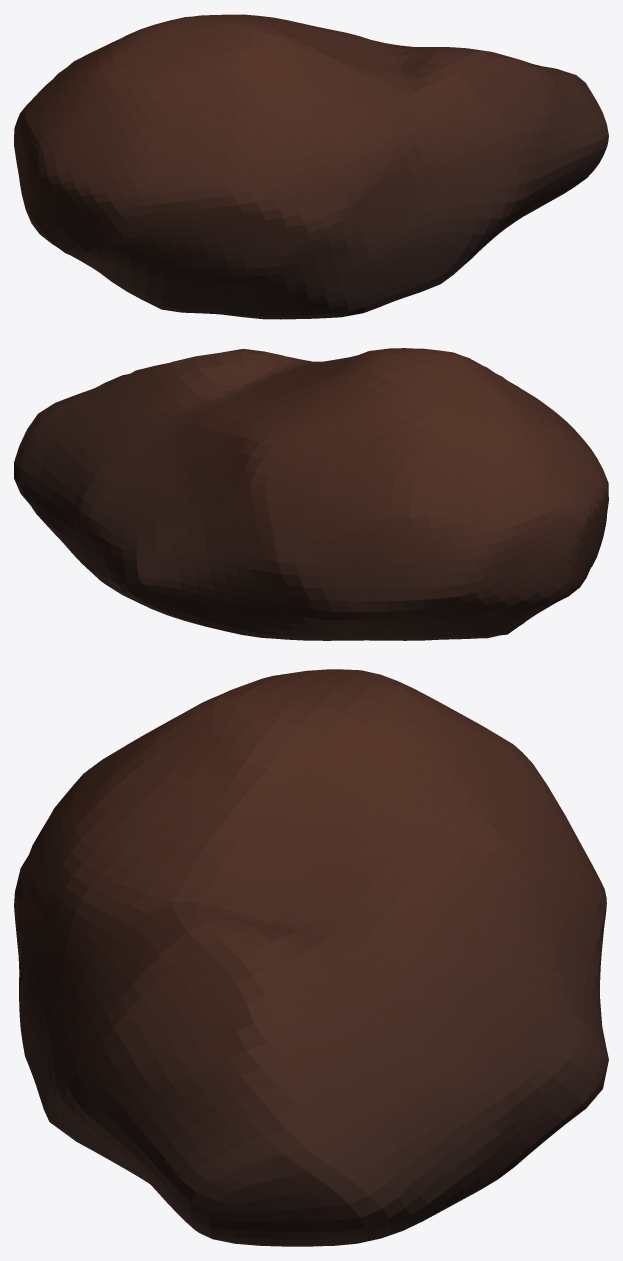
File: Rock5_Textured.fbx
3 views of the same model, one above another, from view 1: azimuth 30°, elevation 25°; view 2: azimuth 150°, elevation 25°; view 3: azimuth 270°, elevation 25° (orthographic). The views are drawn at different scales.
Visible parts, largest first — view 1: Burned_tree1_LowPoly:Group52280; view 2: Burned_tree1_LowPoly:Group52280; view 3: Burned_tree1_LowPoly:Group52280.
Part boxes in pixels (x1,y1,x2,y2): Burned_tree1_LowPoly:Group52280: [14, 14, 608, 319]; Burned_tree1_LowPoly:Group52280: [14, 348, 608, 640]; Burned_tree1_LowPoly:Group52280: [14, 669, 608, 1246].
Bounding box in the file's own units: 1.82 × 0.792 × 1.19.
1 material, 1 textured.
